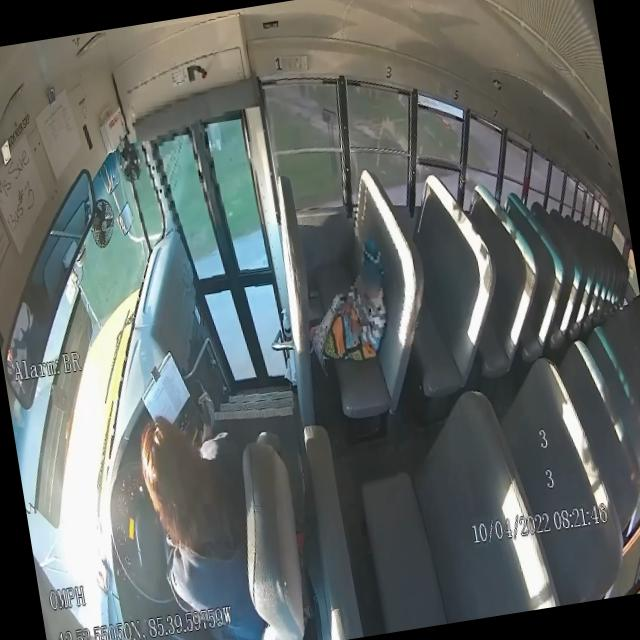bus-door: (157, 117, 286, 387)
